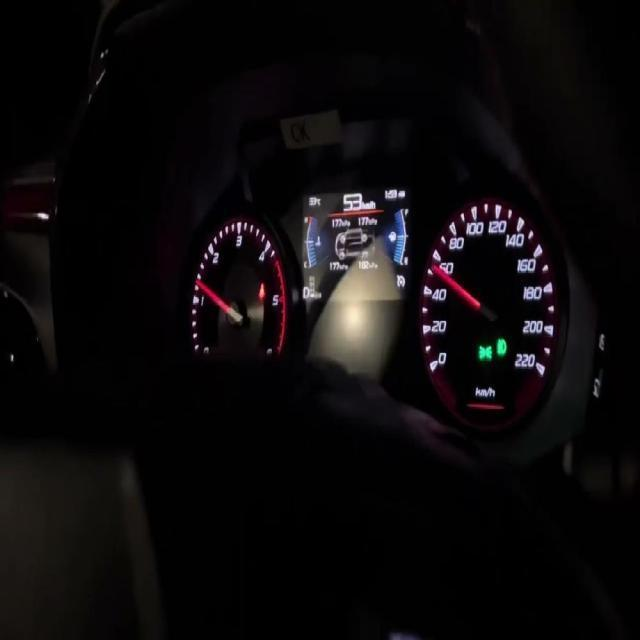Seat Belt: (258, 282, 265, 300)
